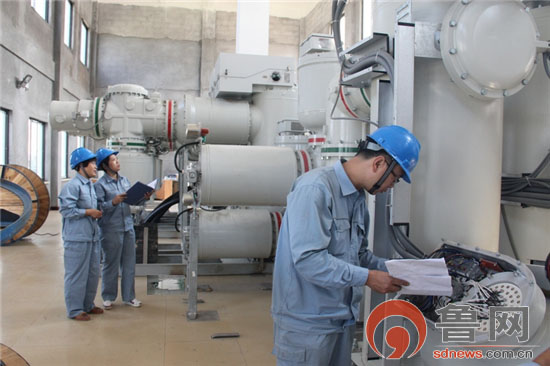oil: (146, 274, 190, 295)
